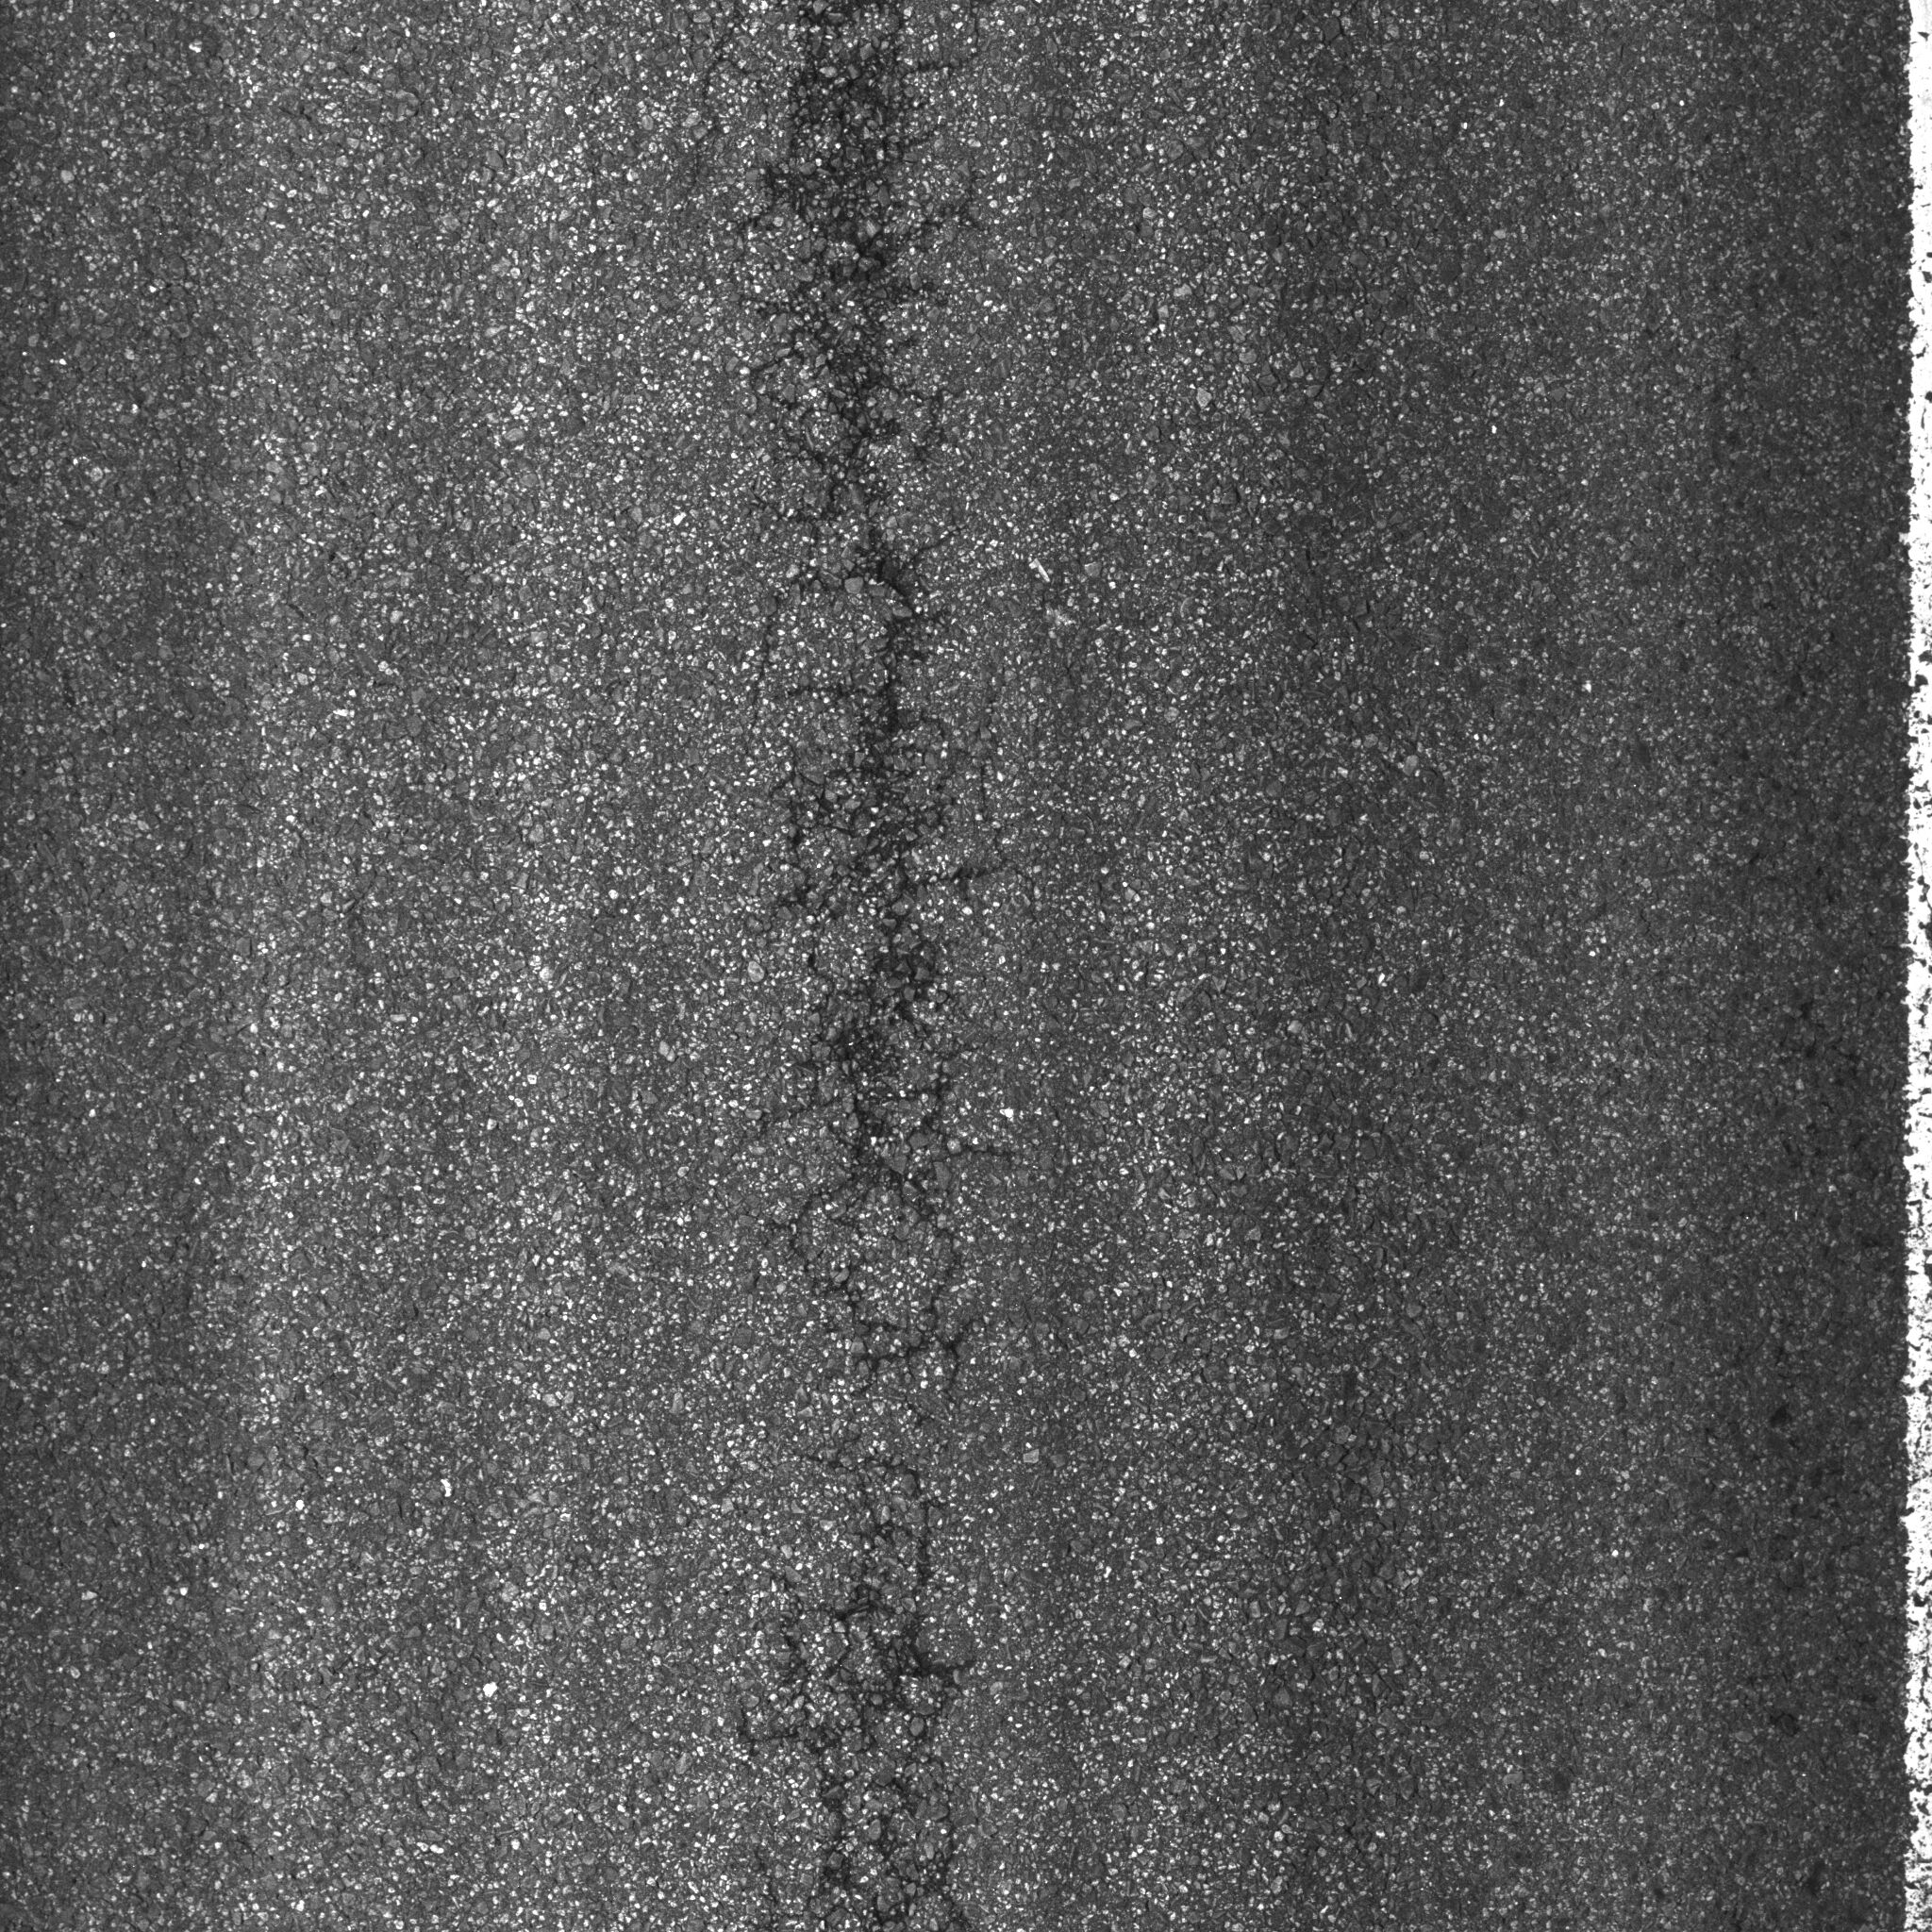longitudinal: (706, 7, 1012, 1913)
